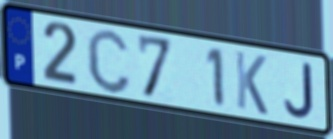1: (204, 47, 227, 110)
2: (40, 20, 81, 89)
7: (137, 31, 175, 101)
C: (85, 26, 133, 96)
J: (282, 61, 316, 121)
K: (233, 48, 270, 118)
